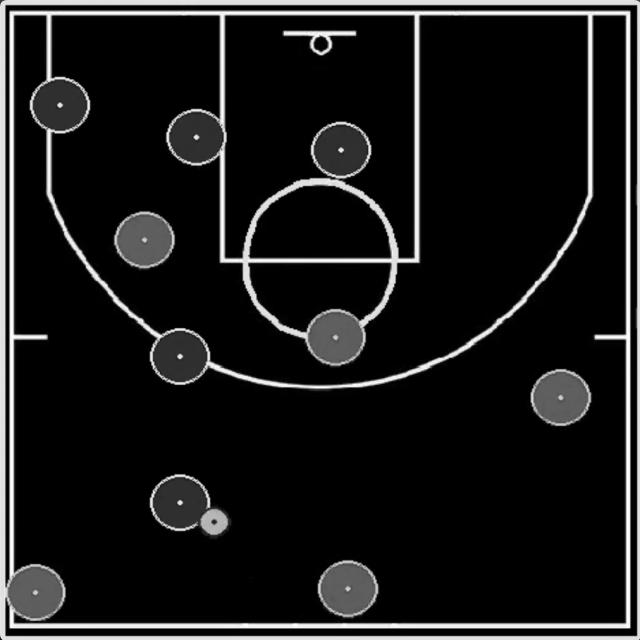Basketball: (200, 508, 231, 539)
Team_A: (311, 121, 371, 179), (166, 109, 226, 166), (150, 329, 210, 385), (150, 475, 210, 531), (31, 78, 90, 134)
Team_B: (114, 211, 174, 269), (318, 560, 378, 618), (306, 309, 366, 366), (531, 369, 591, 426), (5, 564, 65, 621)
